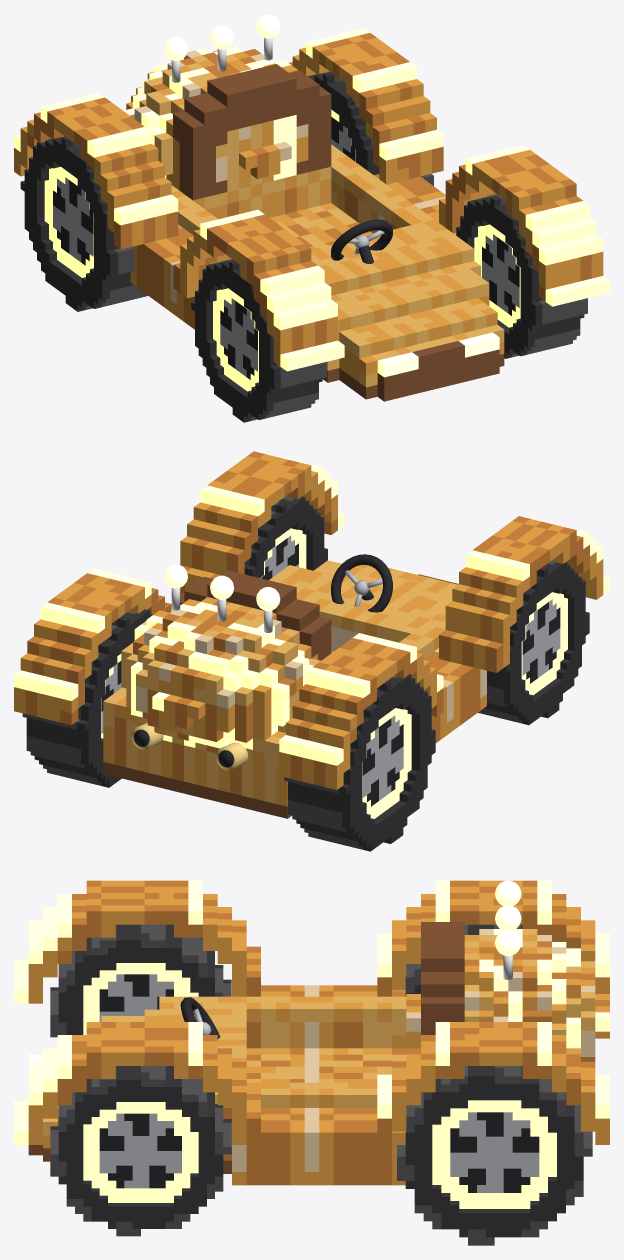
Rendered from K04_MitoCruiser.glb.
3 renders of one model, top to bottom at view 1: azimuth 30°, elevation 25°; view 2: azimuth 150°, elevation 25°; view 3: azimuth 270°, elevation 25°, orthographic. The views are drawn at different scales.
Parts seen in each view (by area): view 1: K04_MitoCruiser_Mesh, K04_Wheel_RL, K04_Wheel_FL, K04_Wheel_FR, K04_Wheel_RR; view 2: K04_MitoCruiser_Mesh, K04_Wheel_RL, K04_Wheel_FL, K04_Wheel_RR, K04_Wheel_FR; view 3: K04_MitoCruiser_Mesh, K04_Wheel_RR, K04_Wheel_FR, K04_Wheel_FL, K04_Wheel_RL.
Part boxes in pixels (left/top/right/bottom): K04_MitoCruiser_Mesh: left=14, top=14, right=609, bottom=401; K04_Wheel_RL: left=20, top=136, right=147, bottom=311; K04_Wheel_FL: left=191, top=259, right=326, bottom=422; K04_Wheel_FR: left=456, top=194, right=587, bottom=358; K04_Wheel_RR: left=308, top=71, right=433, bottom=185; K04_MitoCruiser_Mesh: left=14, top=451, right=609, bottom=818; K04_Wheel_RL: left=284, top=674, right=435, bottom=851; K04_Wheel_FL: left=478, top=561, right=589, bottom=725; K04_Wheel_RR: left=22, top=609, right=152, bottom=787; K04_Wheel_FR: left=244, top=496, right=327, bottom=580; K04_MitoCruiser_Mesh: left=14, top=880, right=609, bottom=1185; K04_Wheel_RR: left=397, top=1066, right=592, bottom=1245; K04_Wheel_FR: left=50, top=1066, right=231, bottom=1236; K04_Wheel_FL: left=50, top=924, right=231, bottom=1037; K04_Wheel_RL: left=405, top=924, right=522, bottom=996.
Size of the model in its own units: 1.69 by 1.15 by 2.46.
